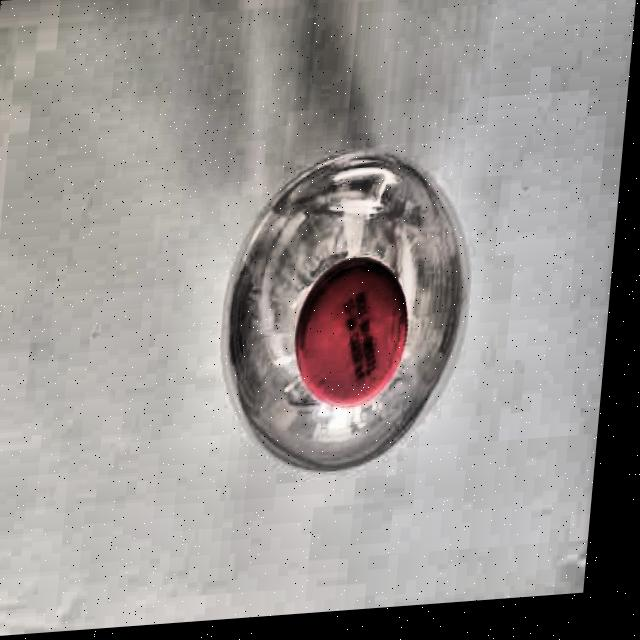plastic: (208, 134, 488, 491)
